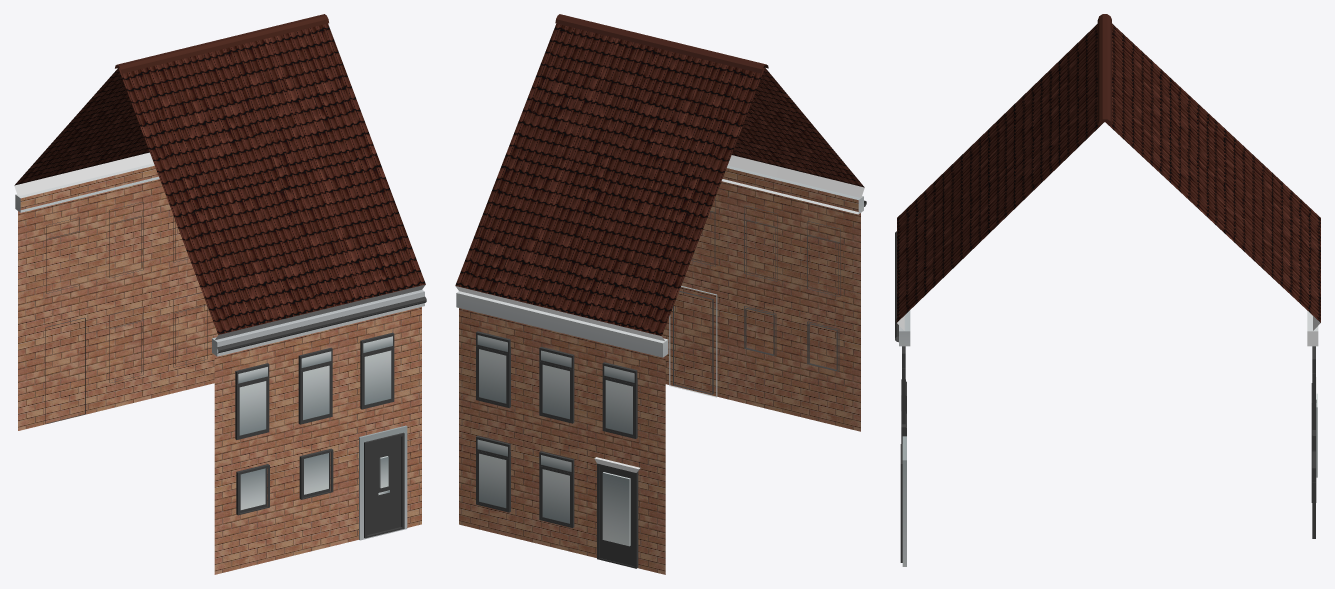
Rendered from It_Tek_32.fbx.
3 renders of one model, left to right at view 1: azimuth 30°, elevation 25°; view 2: azimuth 150°, elevation 25°; view 3: azimuth 270°, elevation 25°, orthographic. The views are drawn at different scales.
Visible parts, largest first — view 1: It_Tek_32; view 2: It_Tek_32; view 3: It_Tek_32.
Part boxes in pixels (x1,y1,x2,y2): It_Tek_32: [14, 14, 426, 574]; It_Tek_32: [455, 14, 866, 574]; It_Tek_32: [895, 14, 1320, 566].
Size of the model in its own units: 550 by 1107 by 937.
